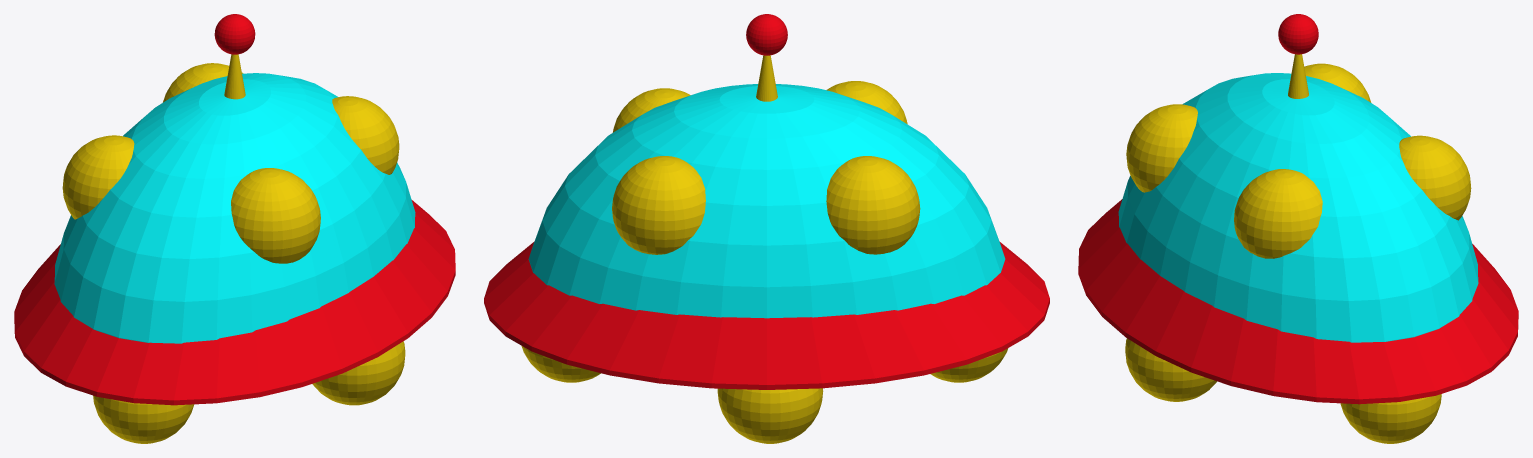
The model's file is Enemy__Beam.fbx.
3 renders of one model, left to right at view 1: azimuth 30°, elevation 25°; view 2: azimuth 150°, elevation 25°; view 3: azimuth 270°, elevation 25°, orthographic. The views are drawn at different scales.
Visible parts, largest first — view 1: Sphere.002; view 2: Sphere.002; view 3: Sphere.002.
Part boxes in pixels (x1=…): Sphere.002: x1=14, y1=14, x2=455, y2=443; Sphere.002: x1=484, y1=14, x2=1049, y2=443; Sphere.002: x1=1078, y1=14, x2=1518, y2=443.
Bounding box in the file's own units: 342 × 258 × 292.
